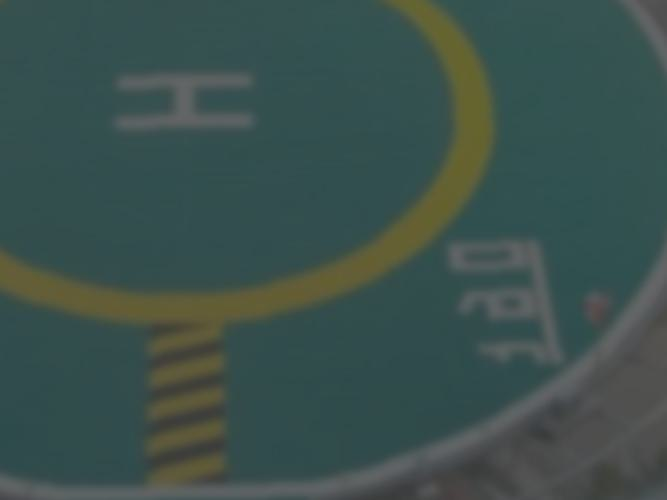Apron: (1, 1, 519, 332)
